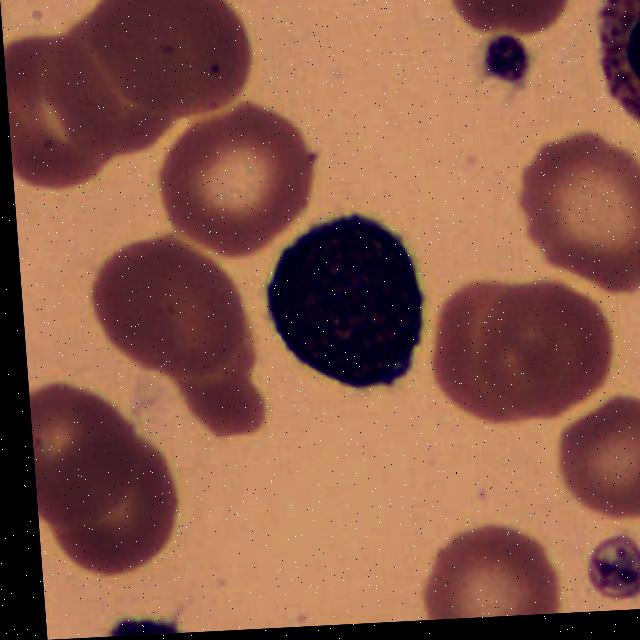eosinophil: (214, 189, 448, 396)
platelets: (585, 535, 640, 608), (483, 34, 538, 84), (100, 615, 190, 637)
rbc: (89, 240, 259, 385), (456, 270, 617, 423), (164, 117, 321, 263), (35, 441, 181, 580), (98, 0, 261, 123), (418, 290, 539, 443), (3, 31, 119, 189), (516, 144, 640, 291), (29, 385, 142, 529), (54, 28, 180, 154), (421, 534, 563, 620), (562, 401, 640, 522), (176, 361, 280, 445), (443, 0, 575, 49)
